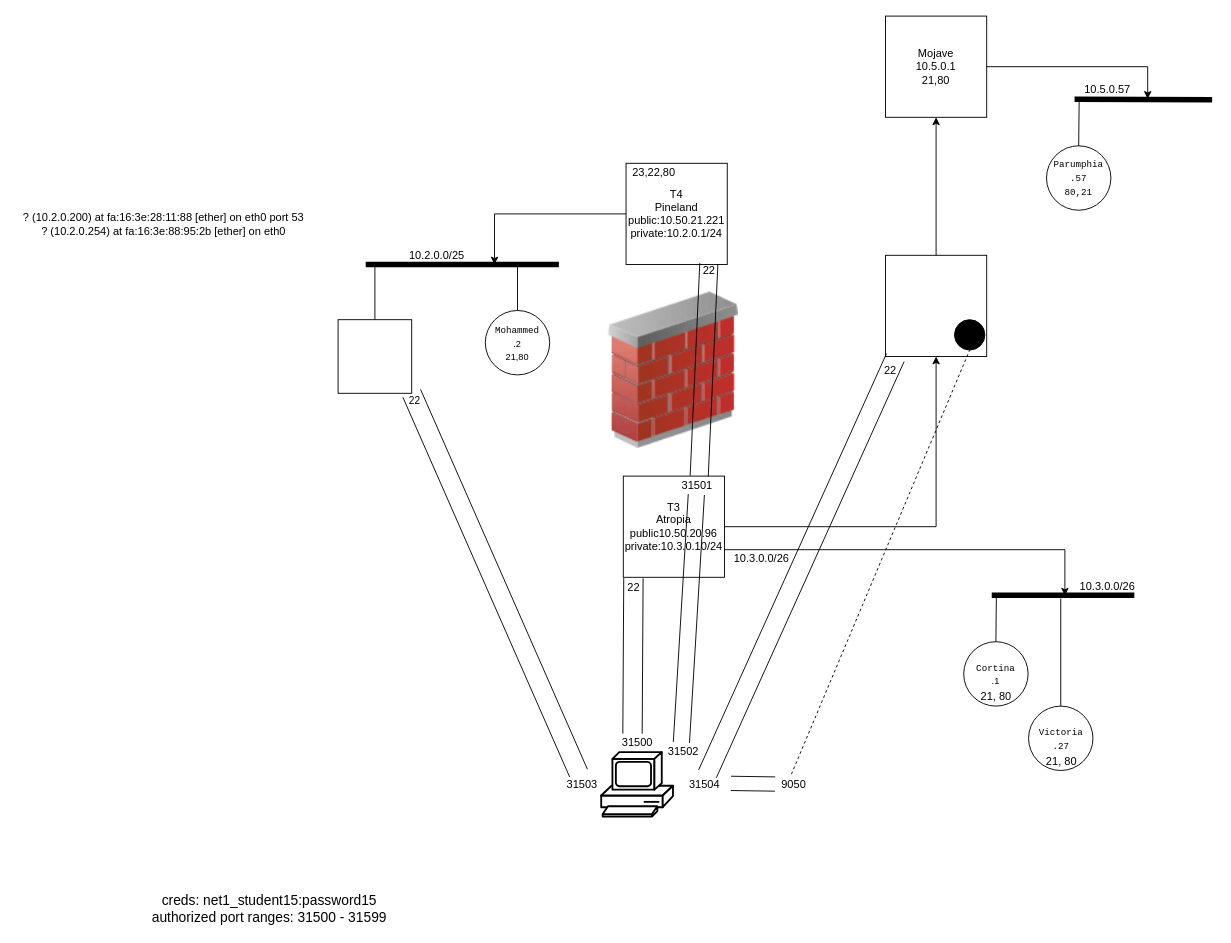
Some shapes in this 1231 by 943 pixel diagram are drawn without their labels. The shapes that lost their labels are listed below. From the top down, each one's box as (x1, y1, x2, y2) in pixels, then its label:
(885, 254, 987, 356): baja-republic 10.4.0.1 22
(337, 319, 412, 393): atlantica 10.2.0.3 23,22
(600, 751, 673, 817): OPS Station 10.50.32.138
